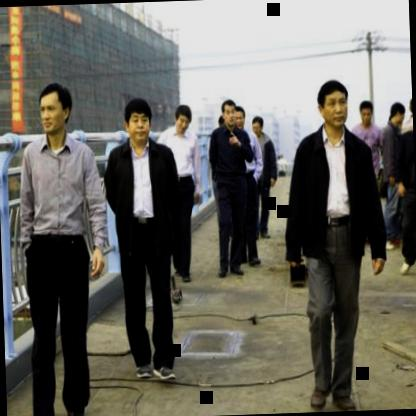head: (35, 79, 76, 141), (314, 76, 352, 131), (120, 93, 156, 147), (172, 102, 195, 135), (219, 94, 237, 128), (358, 98, 376, 126), (388, 101, 406, 128), (250, 111, 267, 138), (235, 104, 249, 131)
